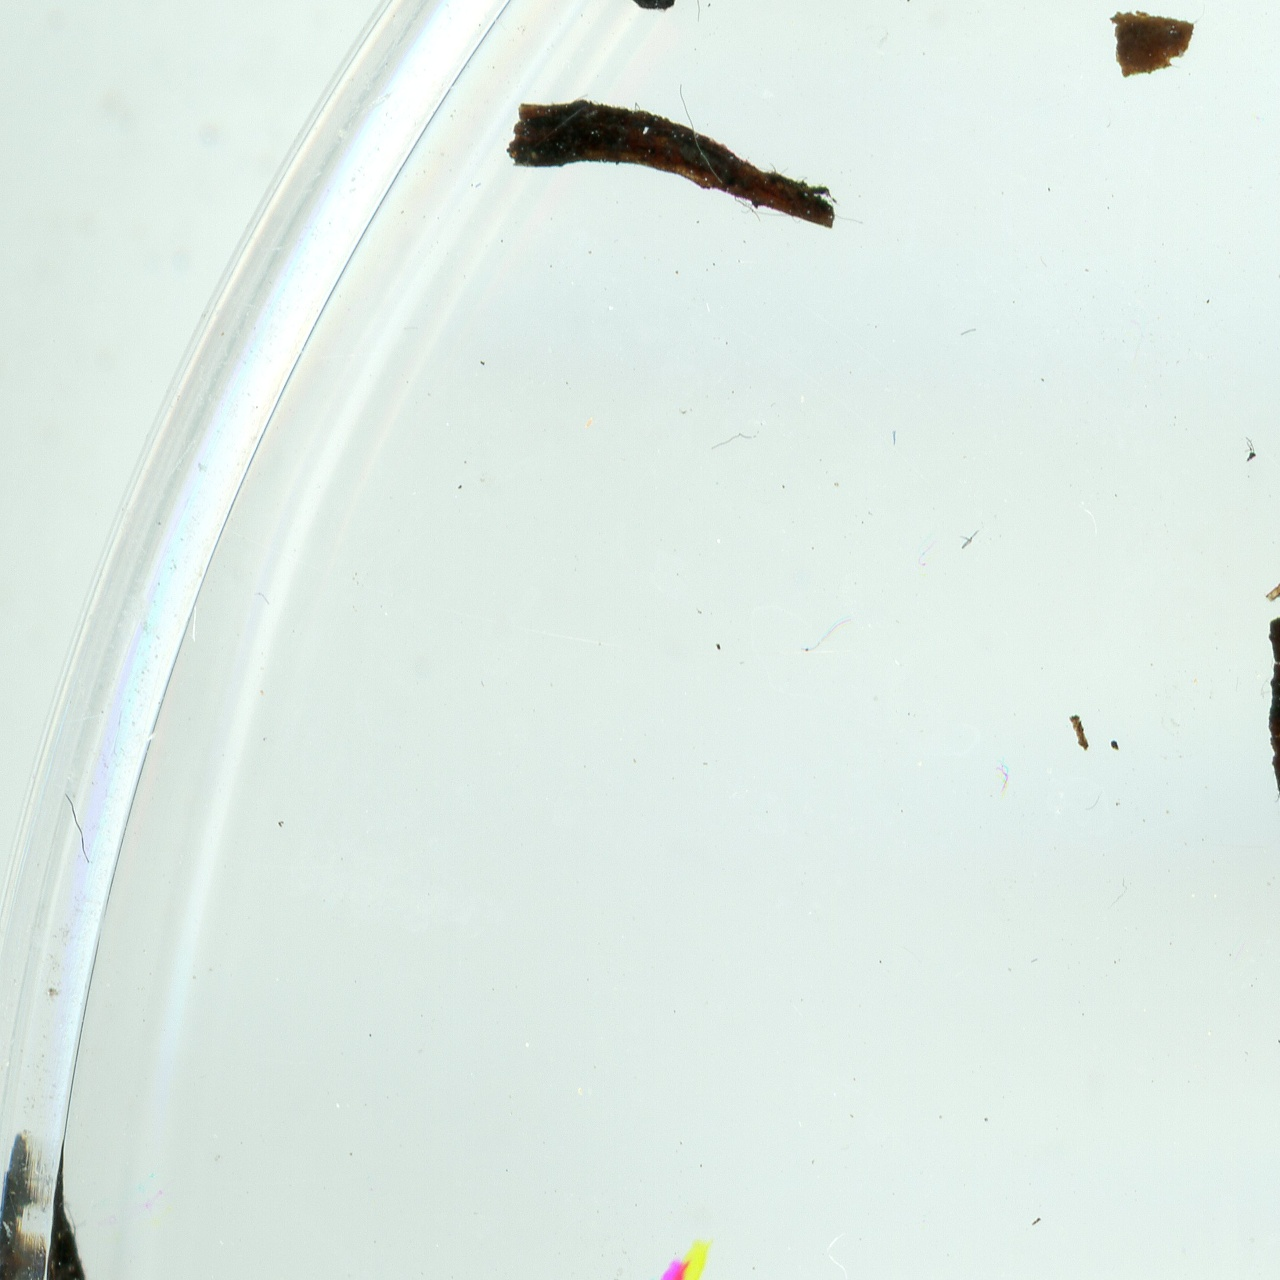arthropod: (617, 1242, 701, 1280)
